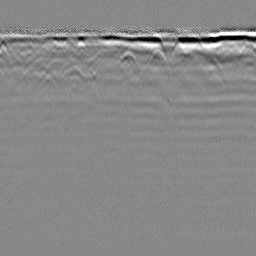cavity: (118, 48, 137, 64)
